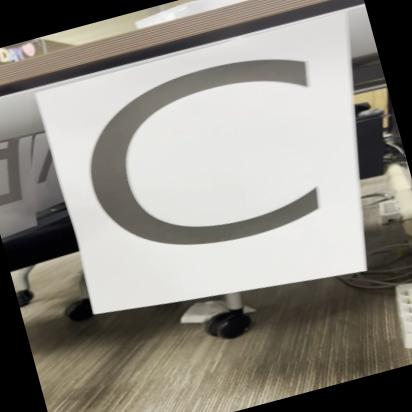seat: (61, 14, 400, 318)
